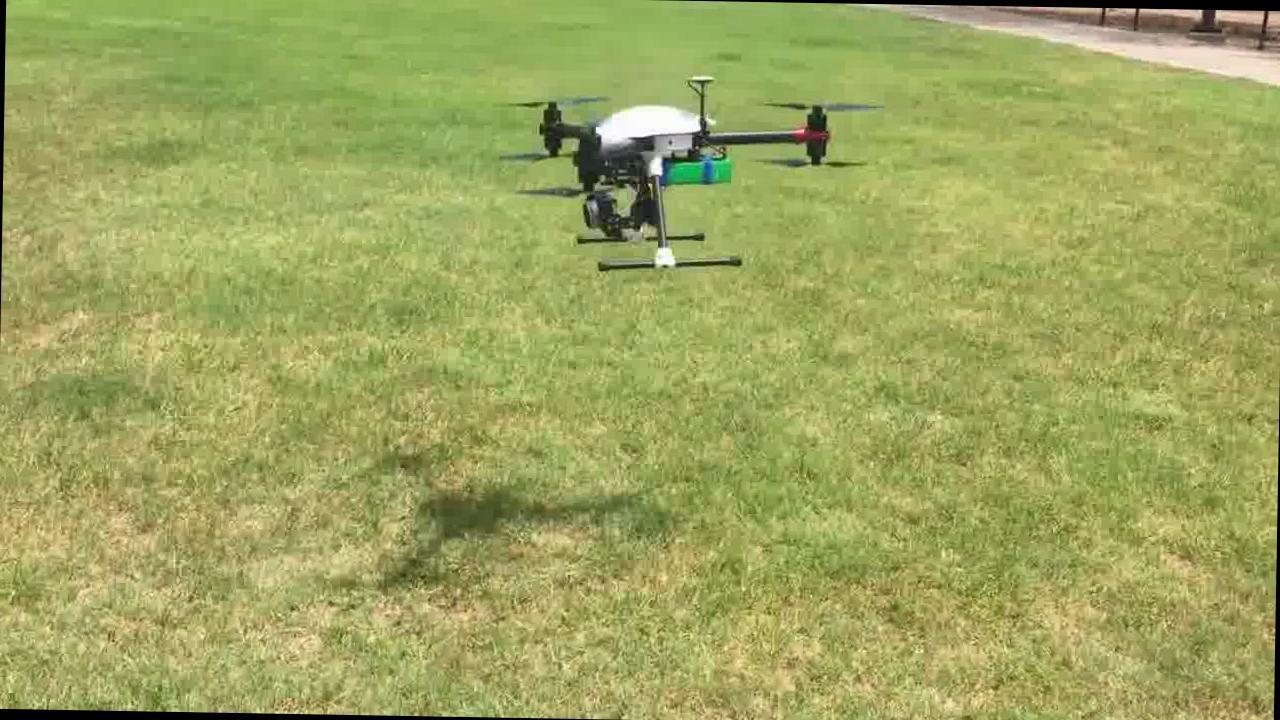drone: (495, 71, 887, 275)
